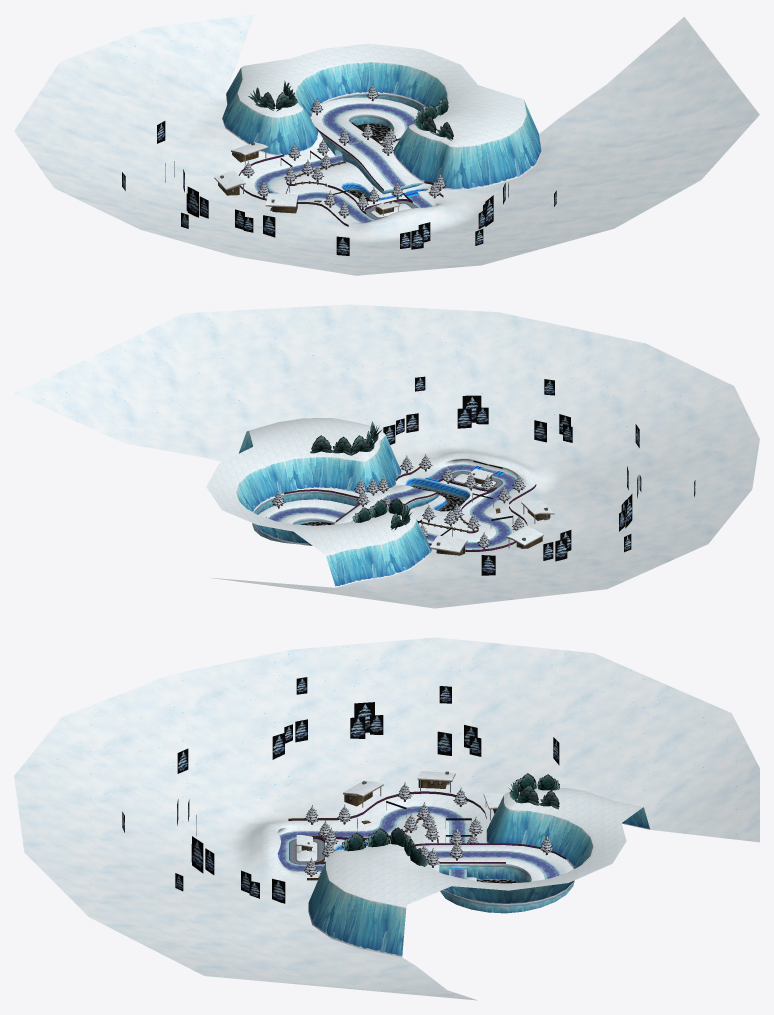
The picture shows the model from 3 angles, top to bottom: view 1: azimuth 30°, elevation 25°; view 2: azimuth 150°, elevation 25°; view 3: azimuth 270°, elevation 25°; orthographic projection. The views are drawn at different scales.
Parts seen in each view (by area): view 1: M_snow, M_iwa, M_road, M_treefar, M_leaf, M_bush, M_kabe, M_alpha, M_house; view 2: M_snow, M_iwa, M_treefar, M_road, M_leaf, M_bush, M_kabe, M_alpha, M_icewall; view 3: M_snow, M_iwa, M_treefar, M_road, M_leaf, M_bush, M_kabe, M_alpha.
Boxes of the visible parts, left/top/right/bottom form: M_snow: left=14, top=14, right=759, bottom=275; M_iwa: left=222, top=62, right=541, bottom=189; M_road: left=254, top=103, right=432, bottom=222; M_treefar: left=122, top=121, right=556, bottom=255; M_leaf: left=242, top=84, right=446, bottom=216; M_bush: left=248, top=80, right=453, bottom=140; M_kabe: left=319, top=93, right=425, bottom=194; M_alpha: left=238, top=111, right=443, bottom=226; M_house: left=218, top=151, right=393, bottom=214; M_snow: left=14, top=304, right=759, bottom=608; M_iwa: left=236, top=431, right=432, bottom=587; M_treefar: left=383, top=376, right=695, bottom=575; M_road: left=267, top=464, right=516, bottom=548; M_leaf: left=265, top=454, right=525, bottom=547; M_bush: left=310, top=421, right=412, bottom=530; M_kabe: left=252, top=491, right=438, bottom=545; M_alpha: left=284, top=466, right=536, bottom=551; M_icewall: left=405, top=478, right=470, bottom=510; M_snow: left=14, top=637, right=759, bottom=1000; M_iwa: left=308, top=795, right=650, bottom=957; M_treefar: left=122, top=677, right=559, bottom=903; M_road: left=277, top=805, right=561, bottom=879; M_leaf: left=304, top=782, right=558, bottom=877; M_bush: left=342, top=773, right=559, bottom=866; M_kabe: left=439, top=861, right=574, bottom=913; M_alpha: left=288, top=791, right=566, bottom=880.
Bounding box in the file's own units: 1664 × 165 × 1444.
25 materials, 25 textured.
